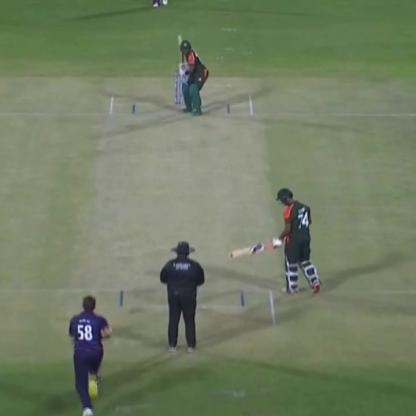bat: (226, 237, 275, 262), (171, 34, 189, 70)
pitch: (79, 87, 277, 336)
